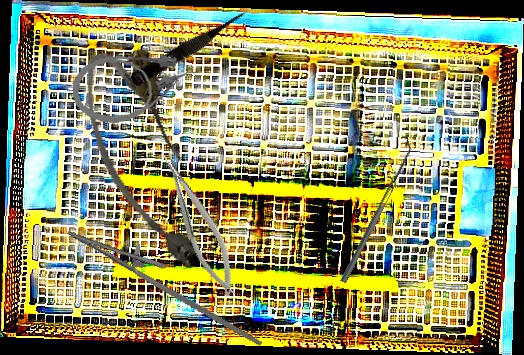Cannula: (69, 39, 218, 284), (70, 48, 200, 127)
Micro Scissor: (129, 5, 254, 91)
Needle Holder: (56, 214, 280, 347), (154, 143, 245, 303)
Spatula Surgical: (335, 137, 417, 284)
